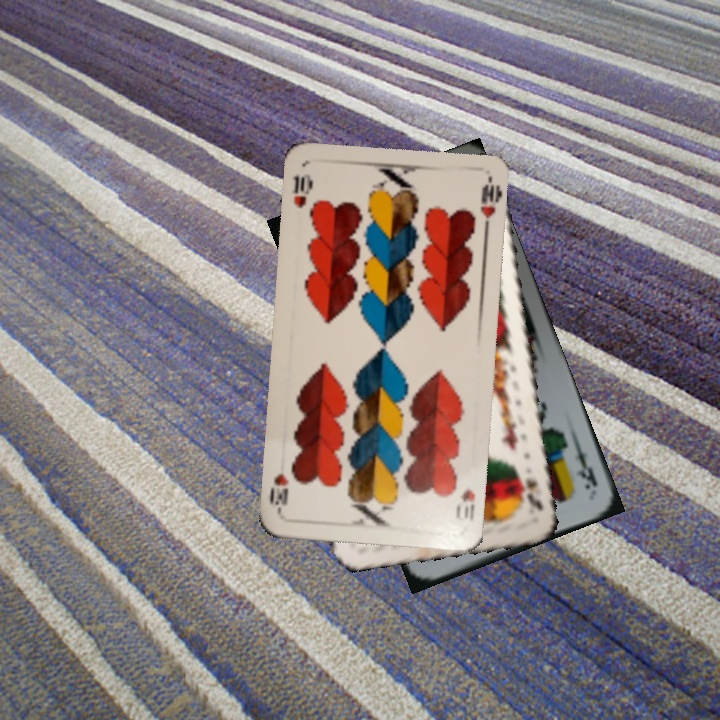EK: (570, 437, 600, 492)
H10: (451, 484, 478, 524), (289, 169, 315, 210)
SK: (515, 467, 546, 513)
